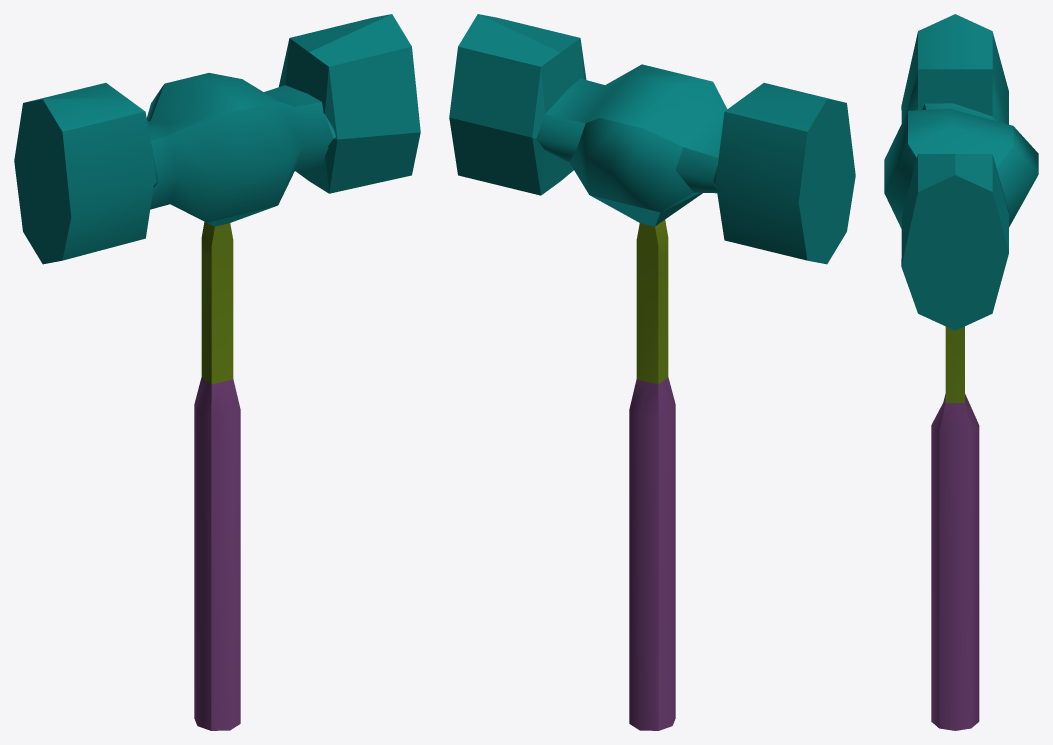
The model's file is HAMMERMAT.obj.
The picture shows the model from 3 angles, left to right: view 1: azimuth 30°, elevation 25°; view 2: azimuth 150°, elevation 25°; view 3: azimuth 270°, elevation 25°; orthographic projection. The views are drawn at different scales.
Parts seen in each view (by area): view 1: Hammer_remodel:hammermesh; view 2: Hammer_remodel:hammermesh; view 3: Hammer_remodel:hammermesh.
Part boxes in pixels (x1,y1,x2,y2): Hammer_remodel:hammermesh: (14,14,420,730); Hammer_remodel:hammermesh: (449,14,855,730); Hammer_remodel:hammermesh: (884,14,1038,730).
Size of the model in its own units: 11.63 by 21.14 by 4.72.
